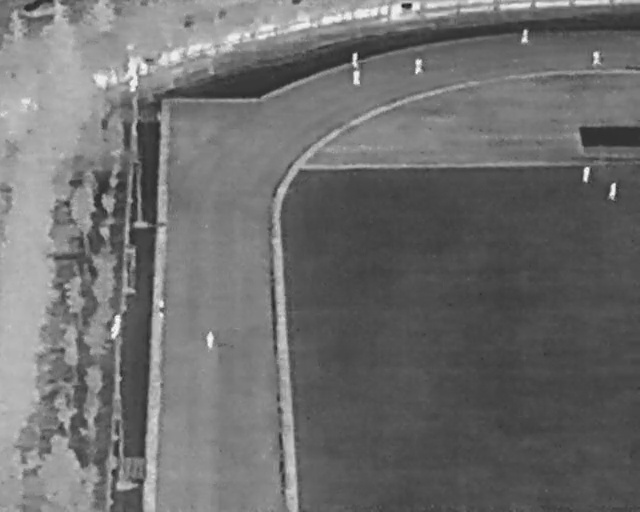Person: (608, 180, 617, 201), (415, 57, 425, 74), (206, 329, 214, 350), (592, 49, 602, 65), (353, 68, 361, 86), (583, 165, 591, 182), (521, 27, 529, 44), (352, 50, 359, 69), (159, 301, 165, 317)
